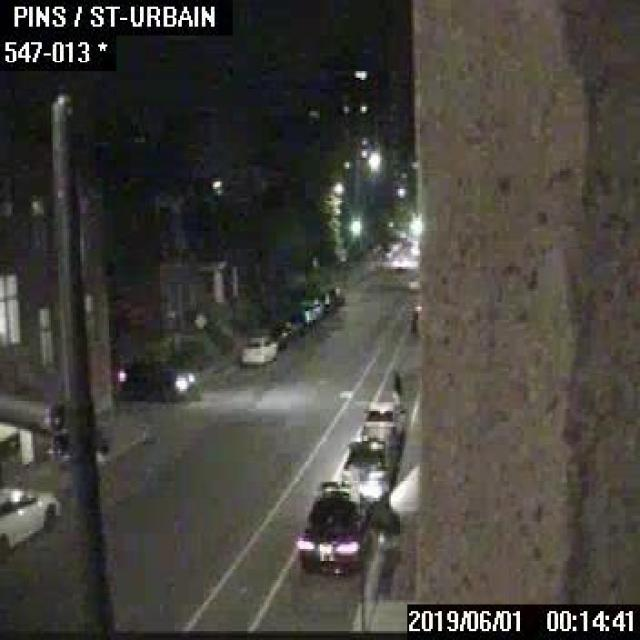vehicle: (298, 484, 376, 576), (0, 482, 60, 562), (340, 436, 396, 499), (115, 358, 196, 398), (362, 400, 404, 446), (239, 334, 277, 364), (292, 295, 320, 319), (311, 289, 332, 310), (409, 303, 422, 332), (323, 286, 343, 302)
